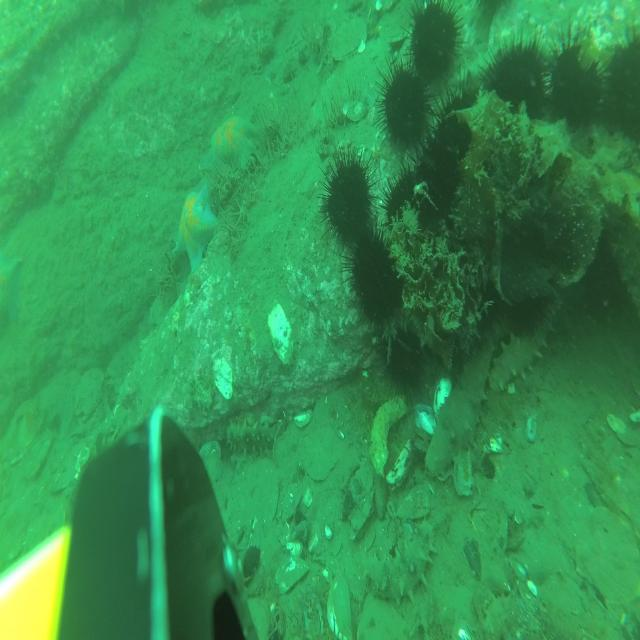echinus: (480, 31, 551, 131), (547, 26, 610, 138), (319, 141, 380, 256), (374, 54, 436, 162), (348, 222, 404, 334), (404, 0, 468, 91), (433, 75, 488, 176), (381, 315, 431, 406), (415, 129, 463, 223), (604, 26, 640, 150), (588, 228, 632, 322), (503, 257, 550, 340), (458, 248, 503, 332), (386, 162, 429, 248)
holothurian: (424, 330, 495, 482), (490, 281, 567, 393), (362, 519, 436, 609), (449, 33, 559, 90), (484, 588, 544, 640), (226, 415, 288, 458)
scallop: (576, 506, 640, 610), (25, 498, 66, 565), (73, 365, 103, 424), (332, 17, 369, 63)
starfish: (174, 184, 217, 278), (199, 114, 259, 177), (0, 247, 24, 337)
